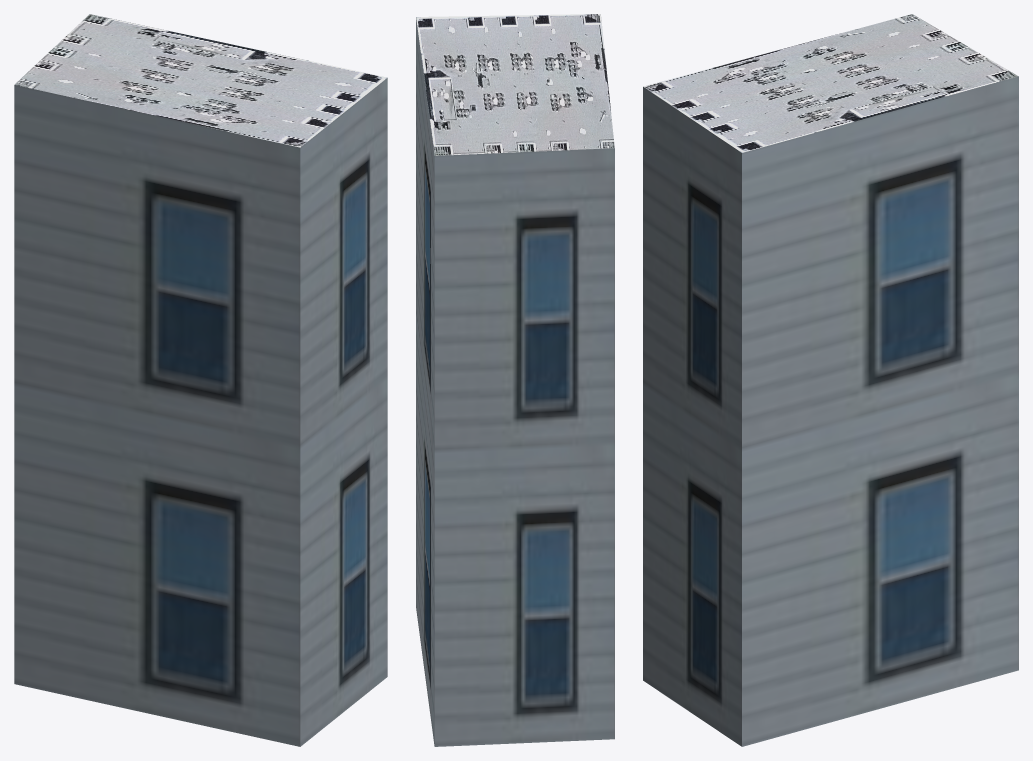
Rendered from ResTex__1585.fbx.
3 renders of one model, left to right at view 1: azimuth 30°, elevation 25°; view 2: azimuth 150°, elevation 25°; view 3: azimuth 270°, elevation 25°, orthographic.
Visible parts, largest first — view 1: CityEngineMaterial_18_m, CityEngineMaterial_4_m; view 2: CityEngineMaterial_18_m, CityEngineMaterial_4_m; view 3: CityEngineMaterial_18_m, CityEngineMaterial_4_m.
Part boxes in pixels (x1,y1,x2,y2): CityEngineMaterial_18_m: (14,78,387,746); CityEngineMaterial_4_m: (14,14,387,147); CityEngineMaterial_18_m: (416,17,614,746); CityEngineMaterial_4_m: (416,14,614,155); CityEngineMaterial_18_m: (643,76,1018,746); CityEngineMaterial_4_m: (643,14,1018,152).
Bounding box in the file's own units: 3.01 × 6 × 3.44.
2 materials, 2 textured.
